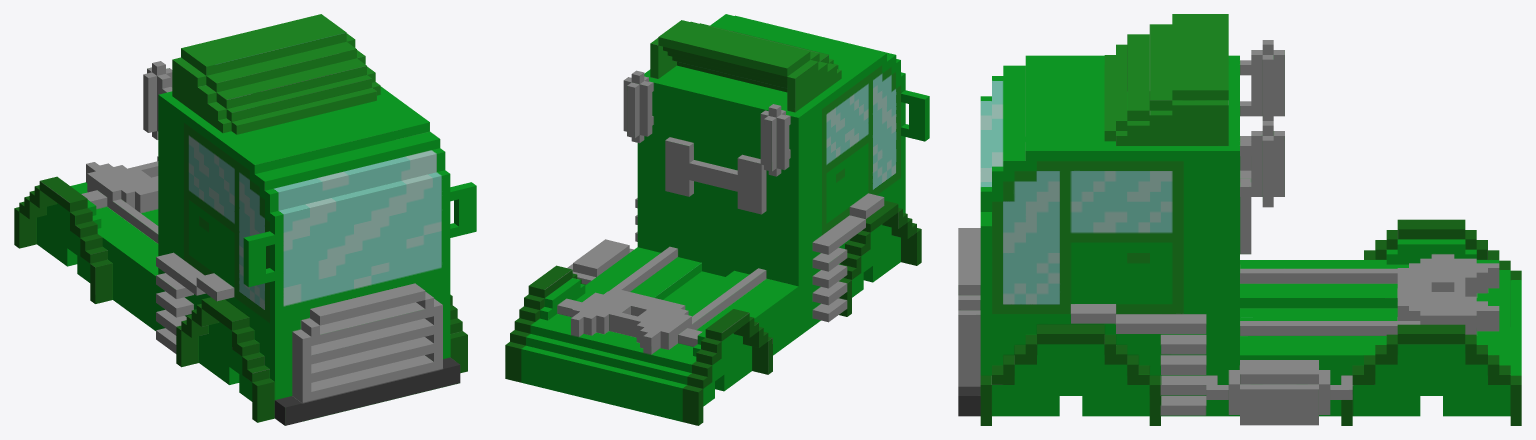
Rendered from Trailer_Var2_1.obj.
3 views of the same model, side by side, from view 1: azimuth 30°, elevation 25°; view 2: azimuth 150°, elevation 25°; view 3: azimuth 270°, elevation 25° (orthographic). The views are drawn at different scales.
Visible parts, largest first — view 1: Trailer_Var2_1_Trailer_Var2_1.001; view 2: Trailer_Var2_1_Trailer_Var2_1.001; view 3: Trailer_Var2_1_Trailer_Var2_1.001.
Part boxes in pixels (x1,y1,x2,y2): Trailer_Var2_1_Trailer_Var2_1.001: (14,14,476,425); Trailer_Var2_1_Trailer_Var2_1.001: (505,14,929,425); Trailer_Var2_1_Trailer_Var2_1.001: (958,14,1521,425).
Bounding box in the file's own units: 2.8 × 3.1 × 5.
